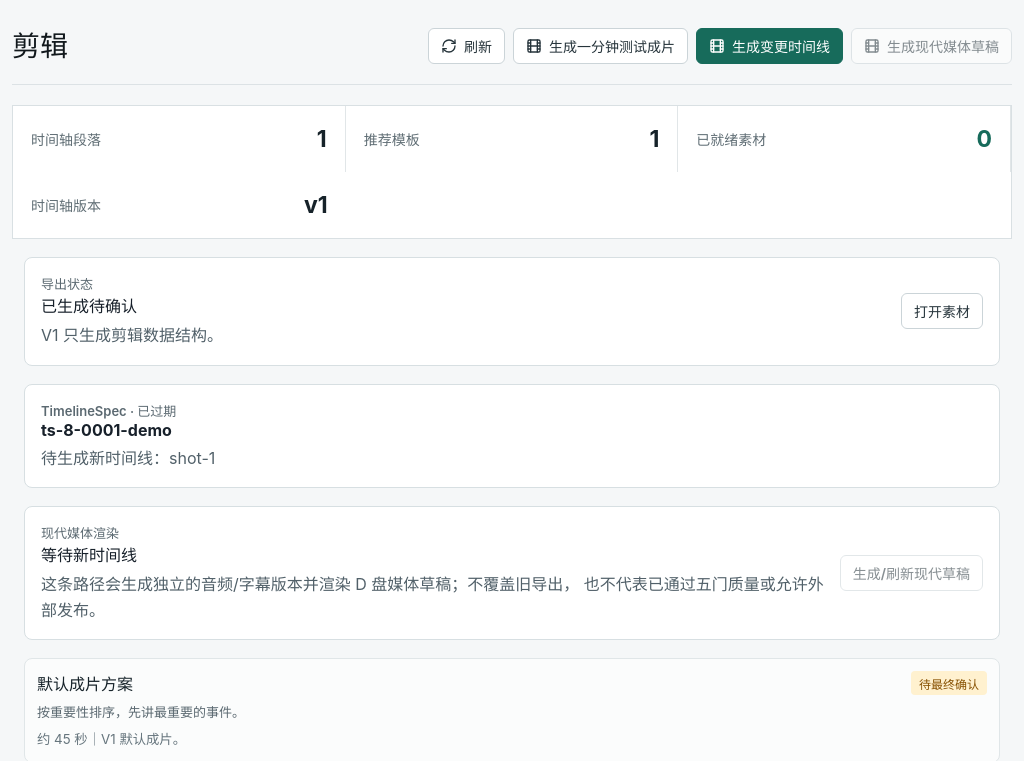
Test: 剪辑页面 › 镜头改选后先显示过期状态，生成新时间线前禁止渲染旧版本
Expected: the text "待生成新时间线：shot-1" is shown, [41, 446, 215, 471]
Expected: the button "生成现代媒体草稿" is disabled, [851, 28, 1012, 64]
Click the button "生成变更时间线". click: (770, 46)
box: [696, 28, 843, 64]
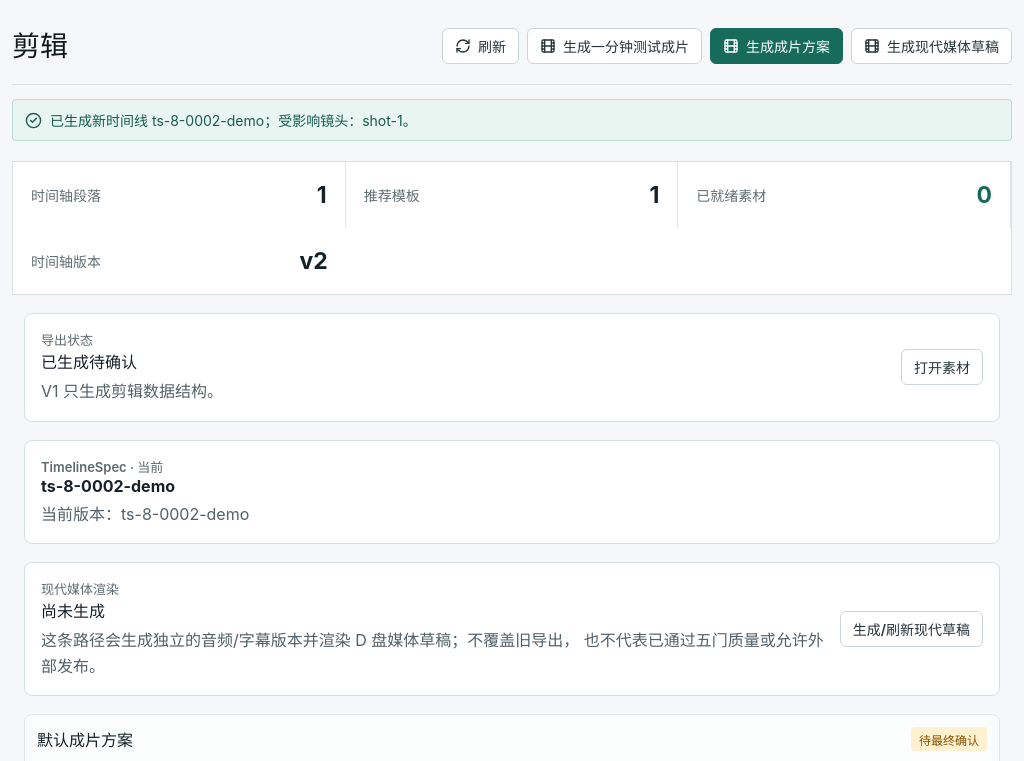
Now the text "已生成新时间线 ts-8-0002-demo；受影响镜头：shot-1。" is shown, box [12, 99, 1012, 141]
Now the text "当前版本：ts-8-0002-demo" is shown, box [41, 502, 249, 527]
